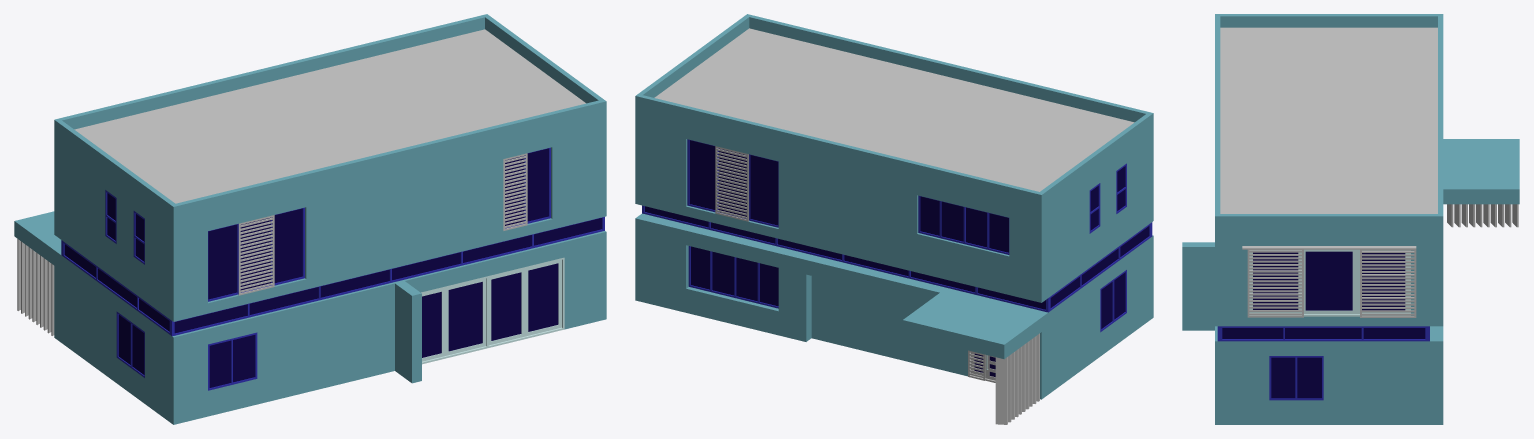
The model's file is Modern_House.glb.
3 renders of one model, left to right at view 1: azimuth 30°, elevation 25°; view 2: azimuth 150°, elevation 25°; view 3: azimuth 270°, elevation 25°, orthographic. The views are drawn at different scales.
Parts seen in each view (by area): view 1: WALL, ROOF, WINDOW, DOOR, LOUVER; view 2: WALL, ROOF, WINDOW, LOUVER, DOOR; view 3: WALL, ROOF, LOUVER, DOOR, WINDOW.
Part boxes in pixels (bbox=[...]): WALL: bbox=[14, 14, 606, 424]; ROOF: bbox=[74, 29, 585, 203]; WINDOW: bbox=[61, 147, 604, 390]; DOOR: bbox=[421, 257, 564, 364]; LOUVER: bbox=[17, 153, 527, 335]; WALL: bbox=[635, 14, 1153, 399]; ROOF: bbox=[654, 28, 1134, 191]; WINDOW: bbox=[642, 139, 1152, 332]; LOUVER: bbox=[715, 146, 1039, 424]; DOOR: bbox=[968, 350, 995, 382]; WALL: bbox=[1182, 14, 1519, 424]; ROOF: bbox=[1220, 27, 1437, 213]; LOUVER: bbox=[1242, 204, 1518, 317]; DOOR: bbox=[1249, 249, 1410, 316]; WINDOW: bbox=[1217, 326, 1429, 400].
Bounding box in the file's own units: 423 × 201 × 295.
